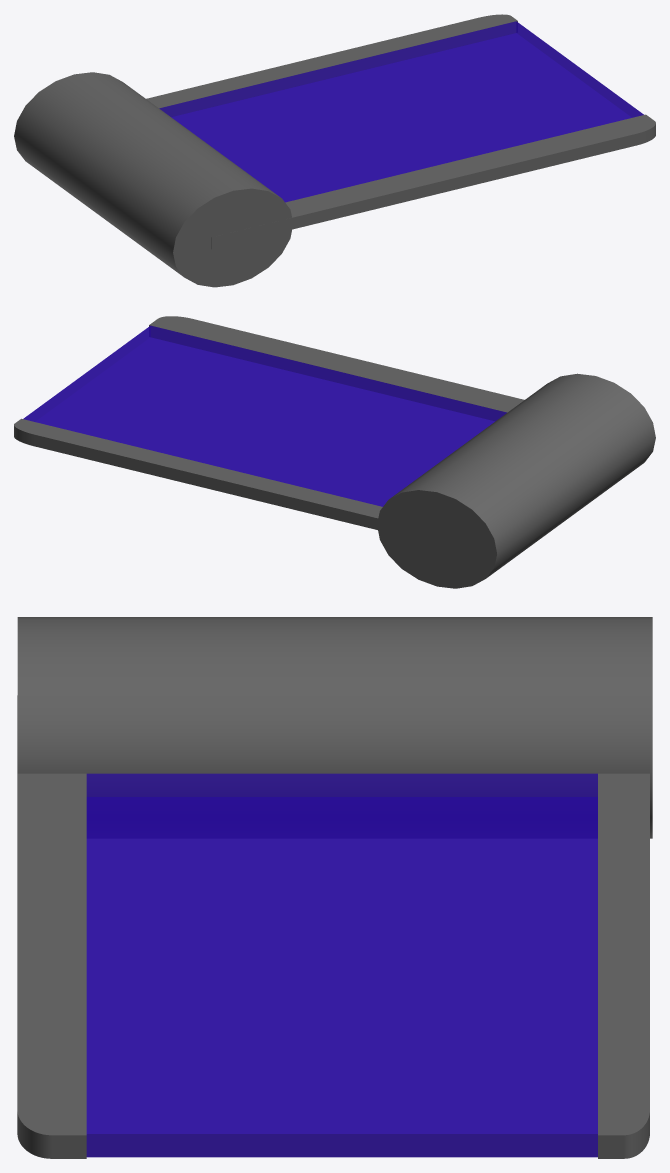
The model's file is PDA.fbx.
The picture shows the model from 3 angles, top to bottom: view 1: azimuth 30°, elevation 25°; view 2: azimuth 150°, elevation 25°; view 3: azimuth 270°, elevation 25°; orthographic projection. The views are drawn at different scales.
Parts seen in each view (by area): view 1: pCube1, pCylinder1, pCube2, pCube3; view 2: pCube1, pCylinder1, pCube2, pCube3; view 3: pCube1, pCylinder1, pCube2, pCube3.
Boxes of the visible parts, left/top/right/bottom form: pCube1: left=159, top=21, right=643, bottom=202; pCylinder1: left=14, top=72, right=291, bottom=287; pCube2: left=211, top=114, right=655, bottom=248; pCube3: left=146, top=14, right=517, bottom=116; pCube1: left=23, top=325, right=506, bottom=506; pCylinder1: left=377, top=373, right=655, bottom=588; pCube2: left=149, top=316, right=524, bottom=420; pCube3: left=14, top=418, right=382, bottom=529; pCube1: left=86, top=773, right=597, bottom=1157; pCylinder1: left=17, top=617, right=652, bottom=838; pCube2: left=17, top=695, right=86, bottom=1158; pCube3: left=598, top=773, right=649, bottom=1158.
Bounding box in the file's own units: 6.52 × 1.2 × 3.66.
